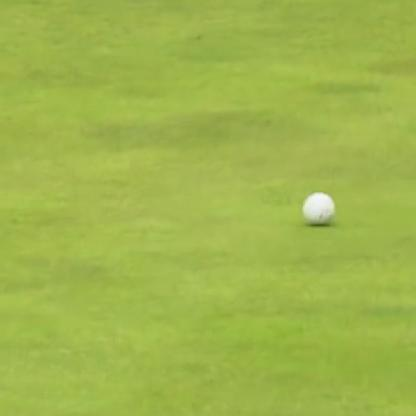golfball: (300, 188, 330, 221)
